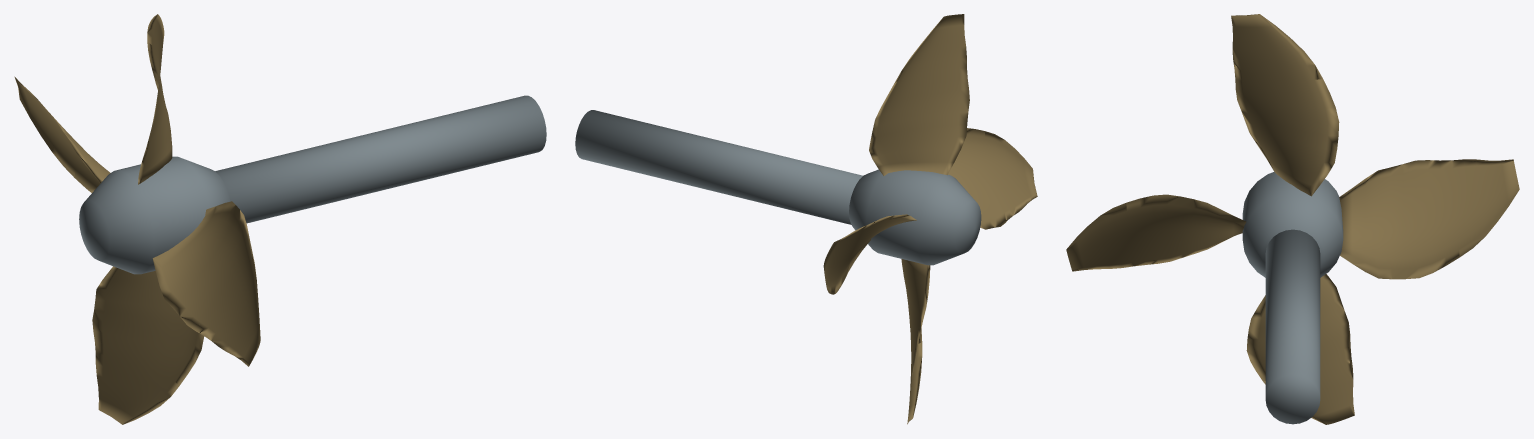
File: PROP_T03_MULTIBLADE_COMBINED.fbx
3 renders of one model, left to right at view 1: azimuth 30°, elevation 25°; view 2: azimuth 150°, elevation 25°; view 3: azimuth 270°, elevation 25°, orthographic. The views are drawn at different scales.
Visible parts, largest first — view 1: PROP_T03_MULTIBLADE.001; view 2: PROP_T03_MULTIBLADE.001; view 3: PROP_T03_MULTIBLADE.001.
Part boxes in pixels (<box>): PROP_T03_MULTIBLADE.001: <box>14,14,546,424</box>; PROP_T03_MULTIBLADE.001: <box>575,14,1037,424</box>; PROP_T03_MULTIBLADE.001: <box>1066,14,1519,424</box>.
Size of the model in its own units: 424 by 397 by 397.
